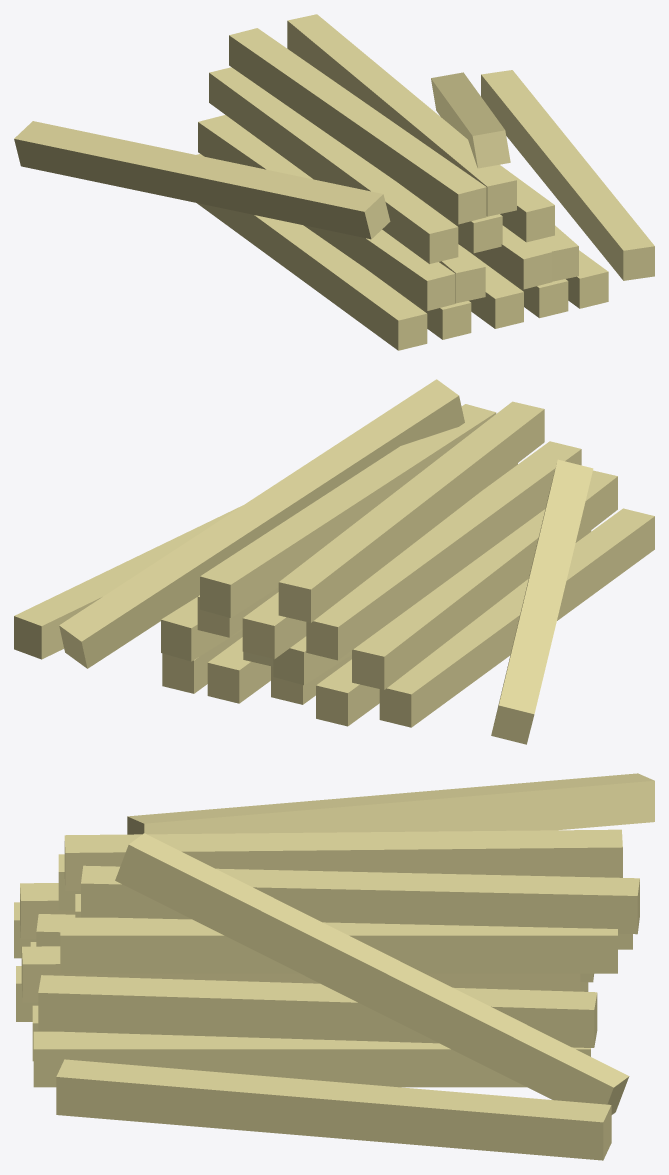
The model's file is UncookedFries.fbx.
3 views of the same model, one above another, from view 1: azimuth 30°, elevation 25°; view 2: azimuth 150°, elevation 25°; view 3: azimuth 270°, elevation 25° (orthographic). The views are drawn at different scales.
Parts seen in each view (by area): view 1: Cube.015, Cube.018, Cube.012, Cube.011, Cube.002, Cube.016, Cube.006, Cube.014, Cube.004, Cube, Cube.010, Cube.008 (+5 smaller); view 2: Cube.014, Cube.018, Cube.012, Cube.002, Cube.016, Cube.006, Cube.015, Cube.011, Cube.013, Cube.003, Cube.001, Cube.005 (+4 smaller); view 3: Cube.011, Cube.014, Cube.005, Cube.016, Cube.010, Cube.018, Cube.015, Cube.008, Cube.004, Cube.006, Cube.007, Cube.012 (+1 smaller).
Part boxes in pixels (x1,y1,x2,y2): Cube.015: (14,121,390,239); Cube.018: (229,28,486,224); Cube.012: (209,67,458,263); Cube.011: (481,70,654,280); Cube.002: (196,154,427,350); Cube.016: (287,14,516,216); Cube.006: (198,115,455,310); Cube.014: (431,72,510,168); Cube.004: (458,225,552,289); Cube: (460,245,523,328); Cube.010: (499,164,554,242); Cube.008: (566,250,608,308); Cube.014: (59,379,464,668); Cube.018: (278,401,544,622); Cube.012: (306,441,581,660); Cube.002: (379,508,654,727); Cube.016: (200,404,496,617); Cube.006: (352,470,617,689); Cube.015: (491,459,593,744); Cube.011: (14,505,242,659); Cube.013: (242,463,517,659); Cube.003: (316,530,591,726); Cube.001: (207,637,270,703); Cube.005: (161,597,242,661); Cube.011: (56,1059,611,1160); Cube.014: (115,833,629,1114); Cube.005: (38,975,597,1047); Cube.016: (81,865,639,934); Cube.010: (60,917,617,973); Cube.018: (64,829,622,890); Cube.015: (127,773,654,834); Cube.008: (33,1031,590,1087); Cube.004: (21,946,580,1002); Cube.006: (20,883,75,939); Cube.007: (36,914,593,982); Cube.012: (58,854,80,910).
Bounding box in the file's own units: 32.71 × 10.32 × 29.61.
